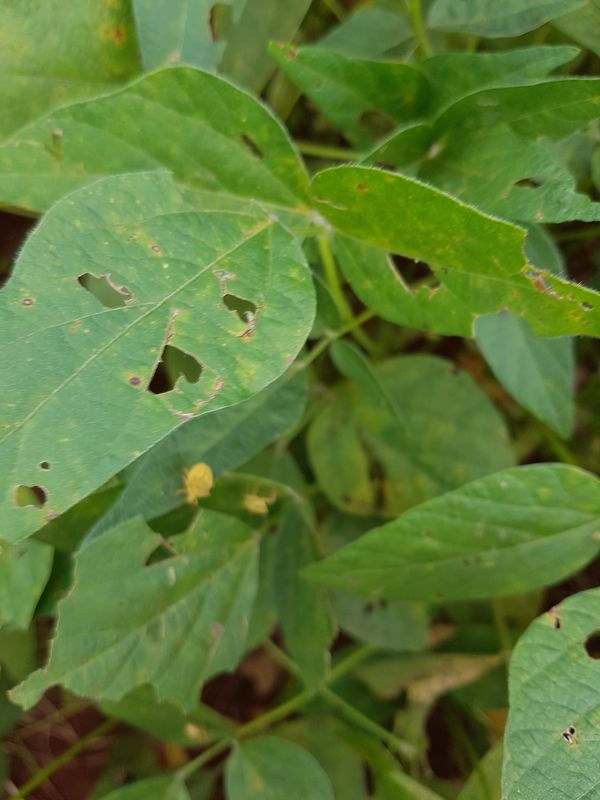Euschistus_heros_ninfa: (168, 455, 223, 514)
